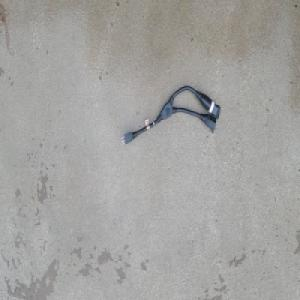Wire: (119, 84, 220, 146)
